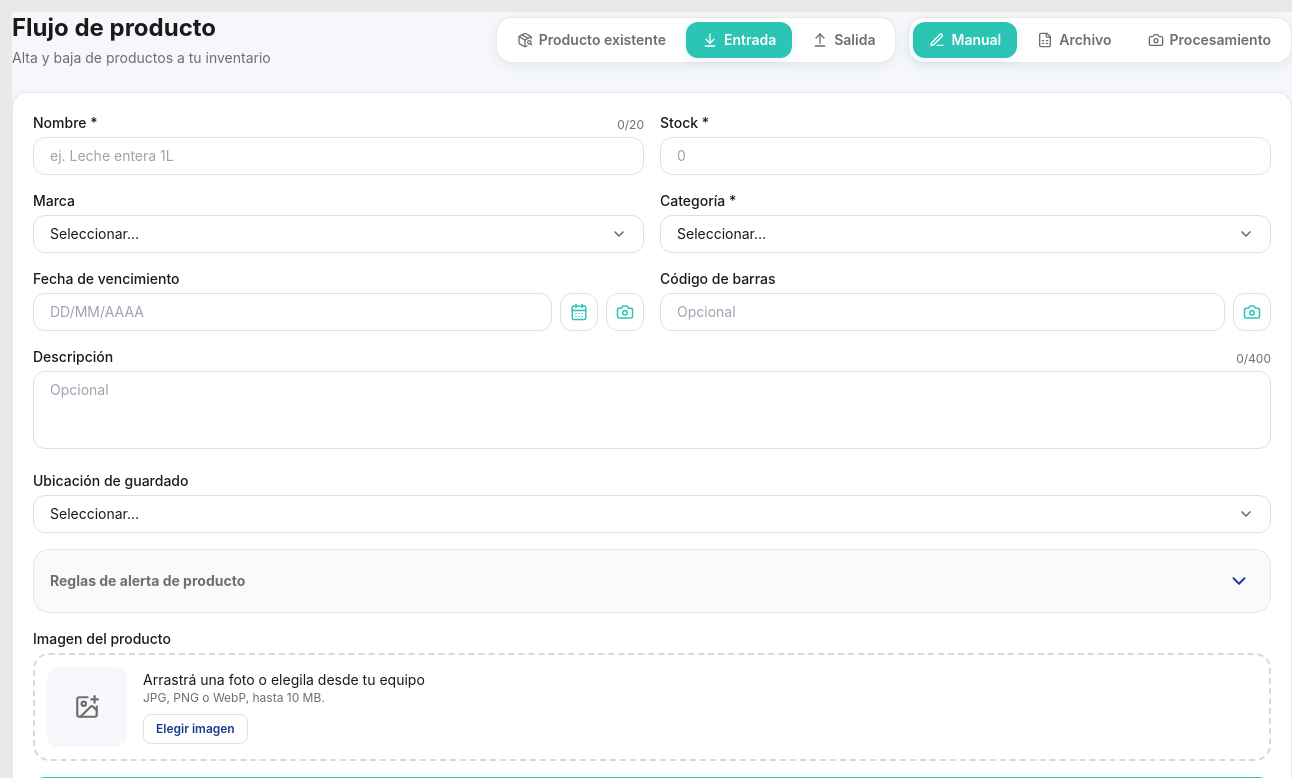
Test: Cargar · manual (entrada) › al escribir un código de barras ya usado, avisa del duplicado y permite sumarle stock
This screenshot has width=1292, height=778.
Type "7791234567890" into the field named "Código de barras" at (942, 312), box left=660, top=293, right=1225, bottom=331
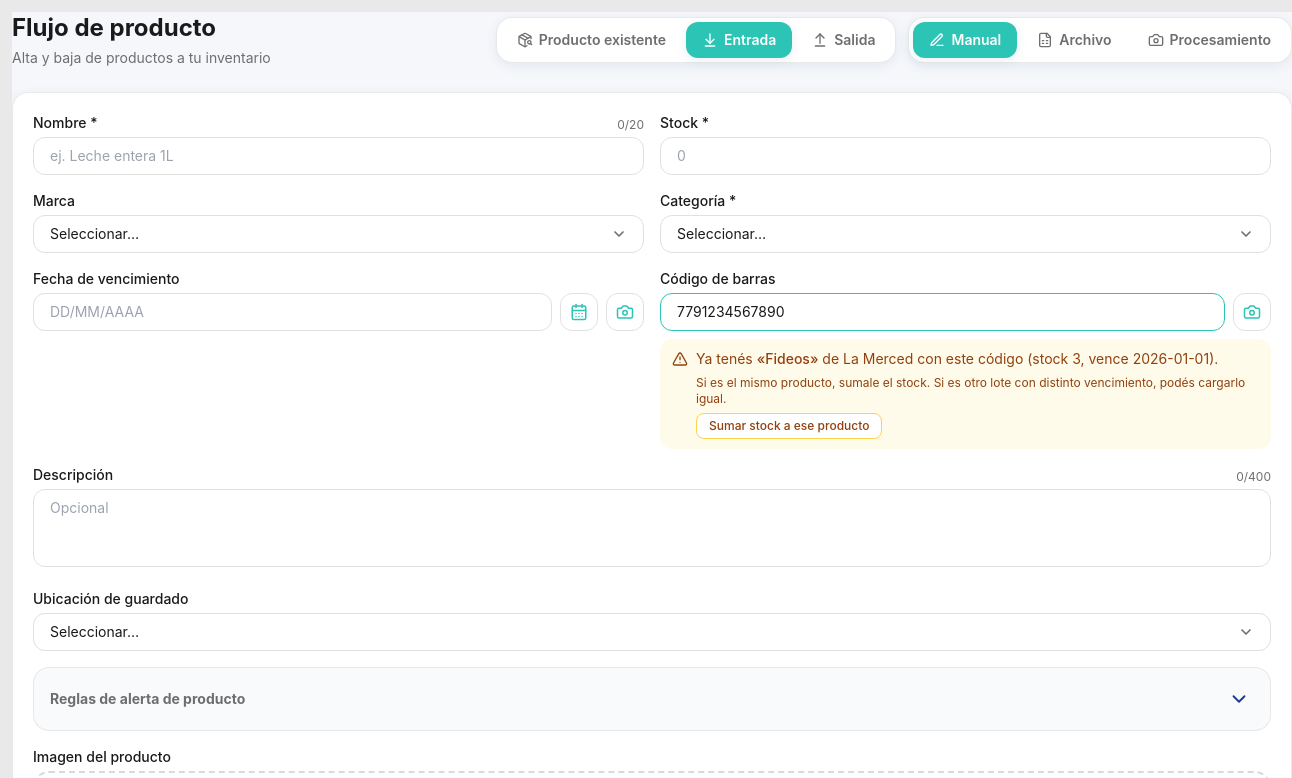
Expected: the text "Ya tenés" is shown, left=696, top=350, right=757, bottom=367
Click the button "Sumar stock a ese producto" at (789, 426), box left=696, top=413, right=882, bottom=439
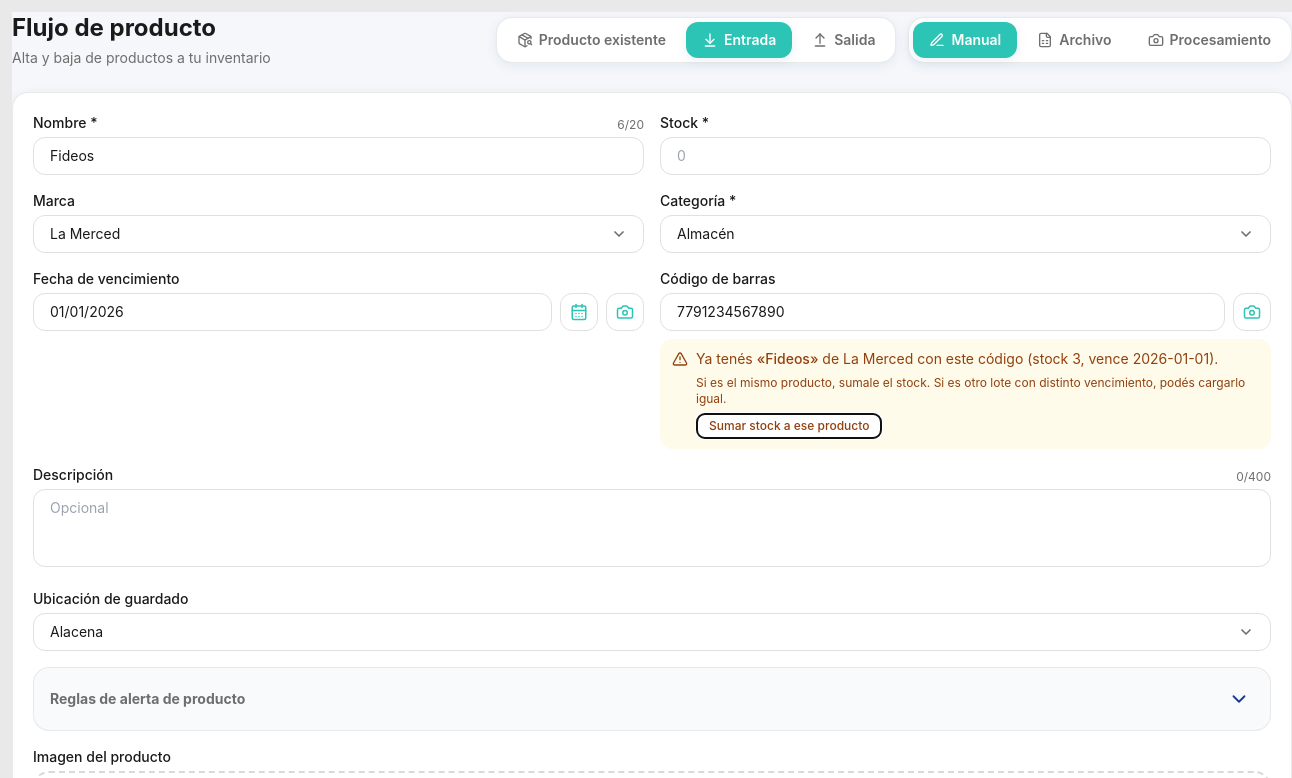
Expected: the field named "Nombre" holds "Fideos", left=33, top=137, right=644, bottom=175
